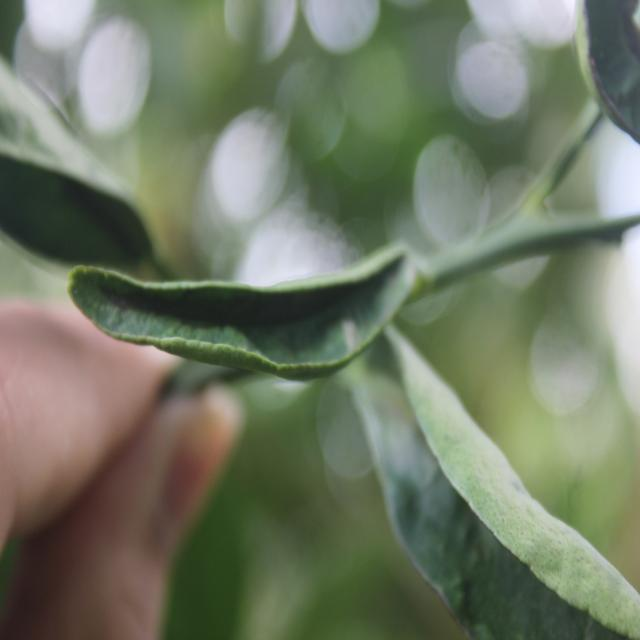canker: (98, 274, 380, 353)
